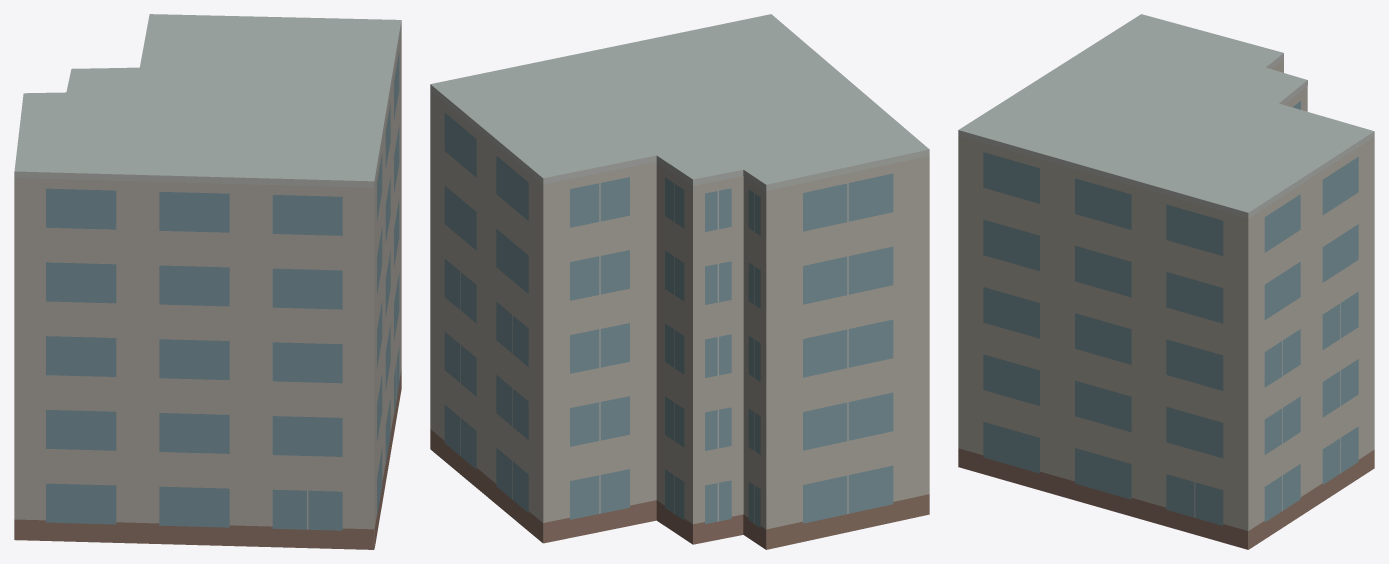
The model's file is survey-upis-33040510.glb.
The picture shows the model from 3 angles, left to right: view 1: azimuth 30°, elevation 25°; view 2: azimuth 150°, elevation 25°; view 3: azimuth 270°, elevation 25°; orthographic projection. The views are drawn at different scales.
Parts seen in each view (by area): view 1: survey-upis-33040510.tmp; view 2: survey-upis-33040510.tmp; view 3: survey-upis-33040510.tmp.
Part boxes in pixels (<box>): survey-upis-33040510.tmp: <box>14,14,401,549</box>; survey-upis-33040510.tmp: <box>430,14,929,549</box>; survey-upis-33040510.tmp: <box>958,14,1374,549</box>.
Size of the model in its own units: 17.91 by 14.15 by 15.85.
